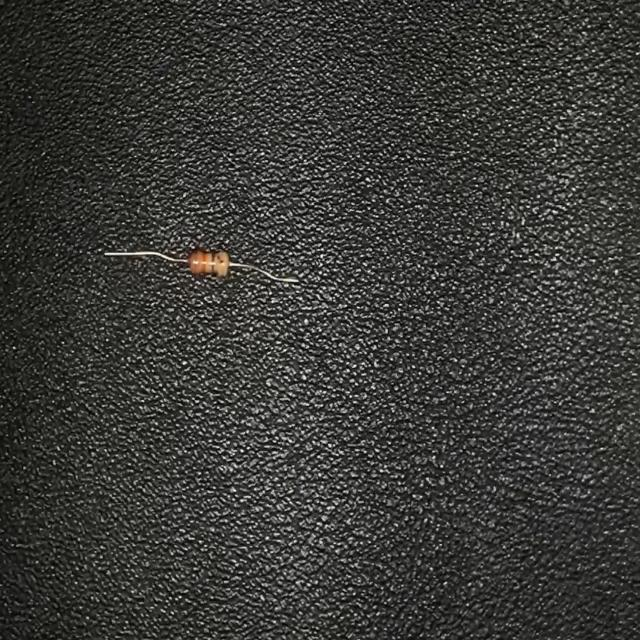burnt: (188, 248, 201, 276)
faded: (215, 250, 226, 278)
resistor: (104, 242, 301, 291)
